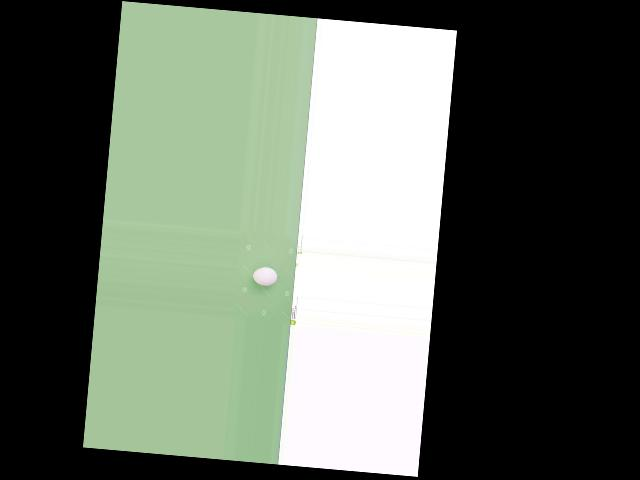egg: (252, 266, 278, 286)
